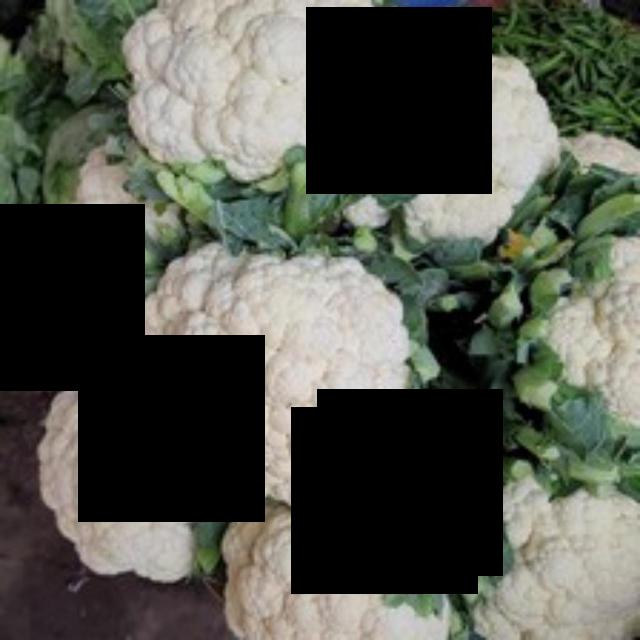cauliflower: (127, 228, 425, 518), (125, 0, 395, 185)
